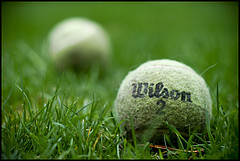tennis ball: (107, 56, 222, 148), (43, 15, 118, 83)
